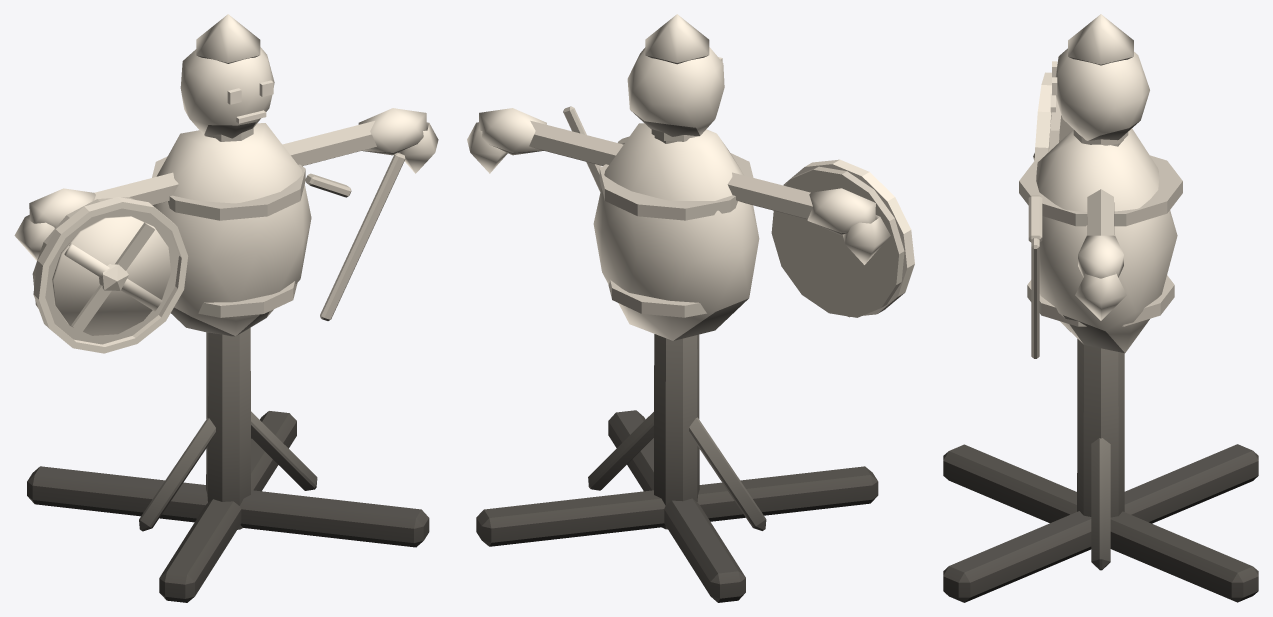
File: SM_VK_Prop_TrainingDummy.fbx
The picture shows the model from 3 angles, left to right: view 1: azimuth 30°, elevation 25°; view 2: azimuth 150°, elevation 25°; view 3: azimuth 270°, elevation 25°; orthographic projection. The views are drawn at different scales.
Parts seen in each view (by area): view 1: SM_VK_Prop_TrainingDummy.001; view 2: SM_VK_Prop_TrainingDummy.001; view 3: SM_VK_Prop_TrainingDummy.001.
Boxes of the visible parts, left/top/right/bottom form: SM_VK_Prop_TrainingDummy.001: left=14, top=14, right=438, bottom=602; SM_VK_Prop_TrainingDummy.001: left=467, top=14, right=914, bottom=602; SM_VK_Prop_TrainingDummy.001: left=943, top=14, right=1258, bottom=602.
Size of the model in its own units: 1.85 by 2.12 by 1.16.
